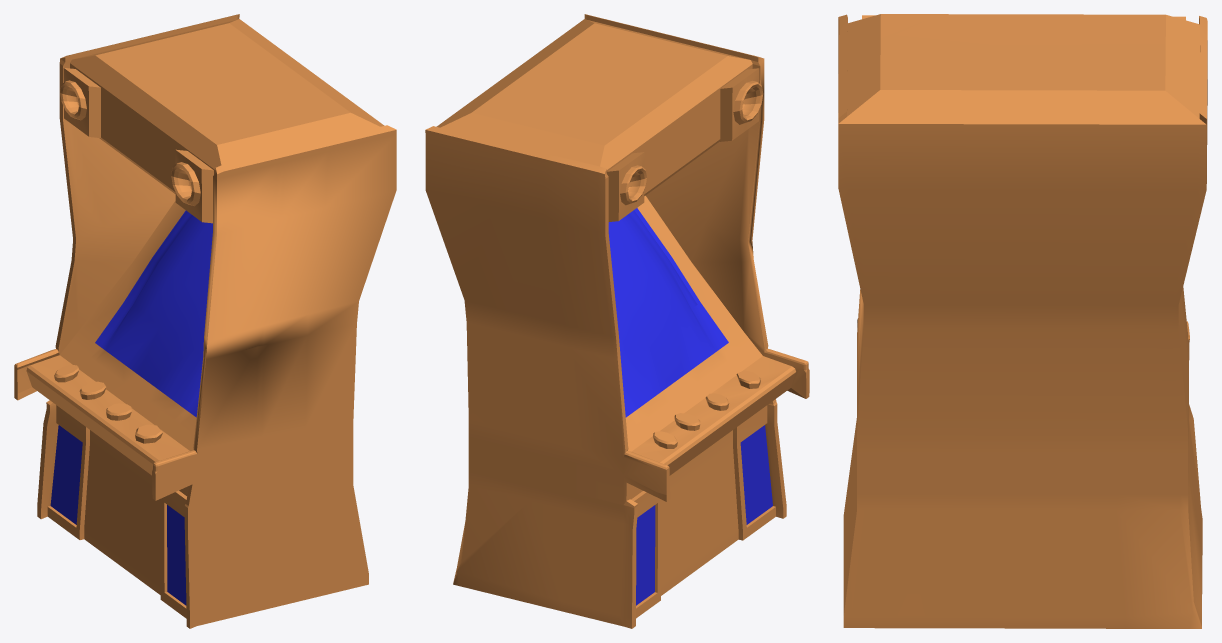
File: ArcadeMachine.fbx
3 renders of one model, left to right at view 1: azimuth 30°, elevation 25°; view 2: azimuth 150°, elevation 25°; view 3: azimuth 270°, elevation 25°, orthographic. The views are drawn at different scales.
Visible parts, largest first — view 1: ArcadeBox; view 2: ArcadeBox; view 3: ArcadeBox.
Part boxes in pixels (bbox=[...]): ArcadeBox: bbox=[14, 14, 396, 628]; ArcadeBox: bbox=[425, 14, 809, 628]; ArcadeBox: bbox=[838, 14, 1207, 628].
Bounding box in the file's own units: 139 × 262 × 163.
